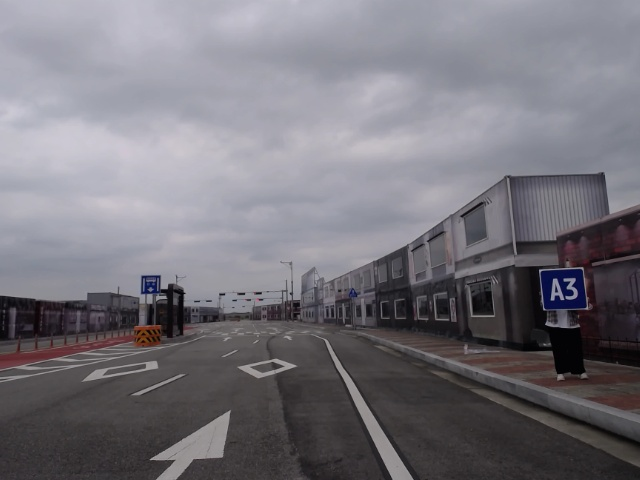delivery_a3: (540, 268, 588, 310)
